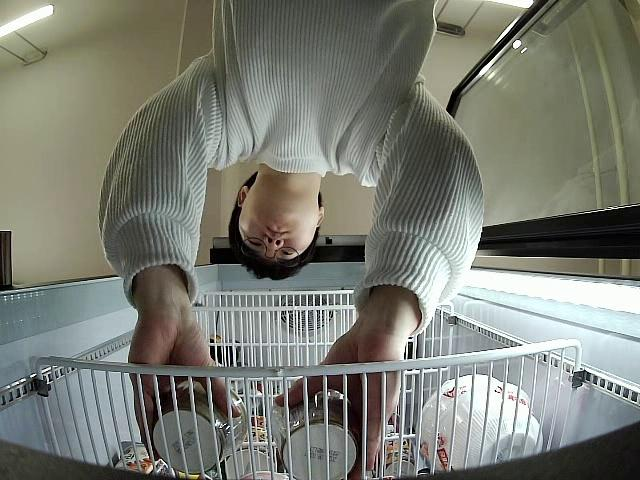00_hand: (275, 324, 403, 480), (128, 307, 240, 461)
04_chapagetti_S: (151, 379, 247, 474), (269, 393, 358, 480)
